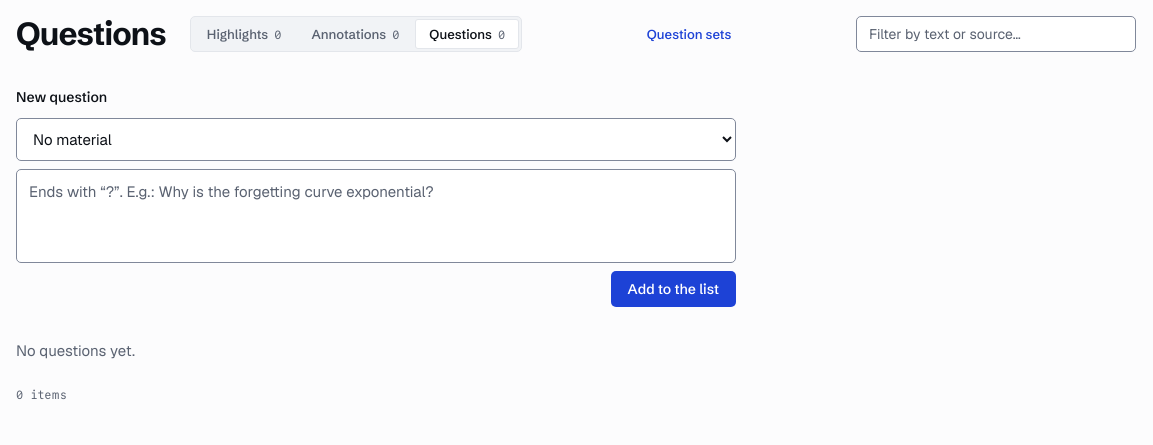
Test case: NotesView › keeps the list and the typed question when the write fails
Step 1. Replace the text in the text box with id "new-question" with "Why did this fail?" → (376, 216), box [16,169,736,263]
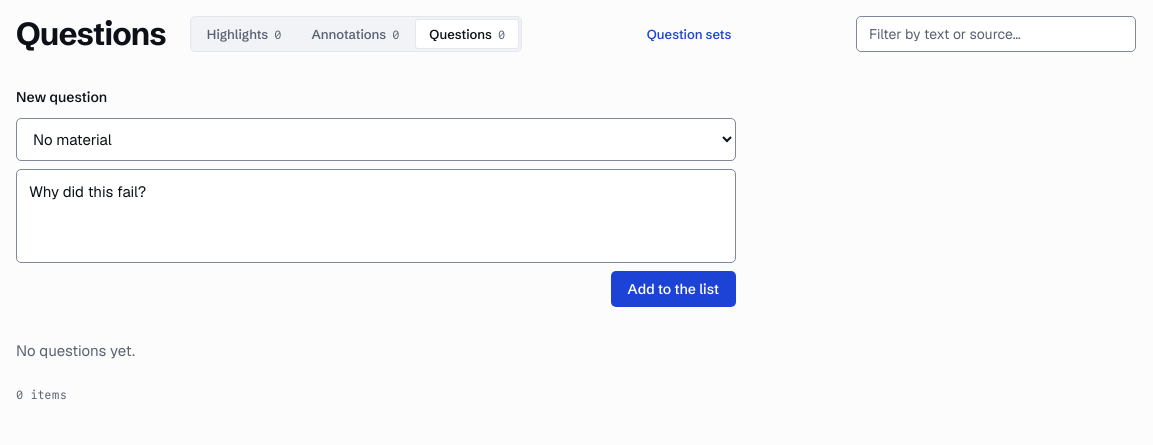
Step 2. Submit the form, box [16,84,736,307]
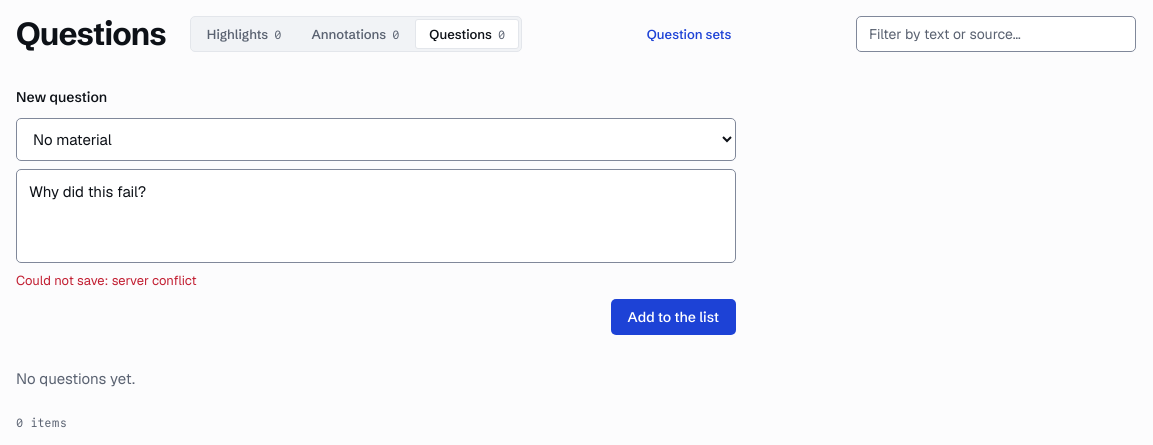
Expected: the message "Could not save: server conflict" is shown, [16,272,197,289]
